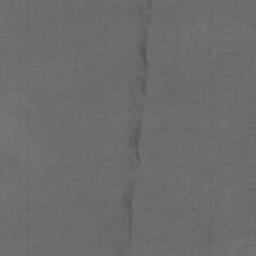Inclusion: (128, 0, 155, 168), (120, 183, 134, 248)
